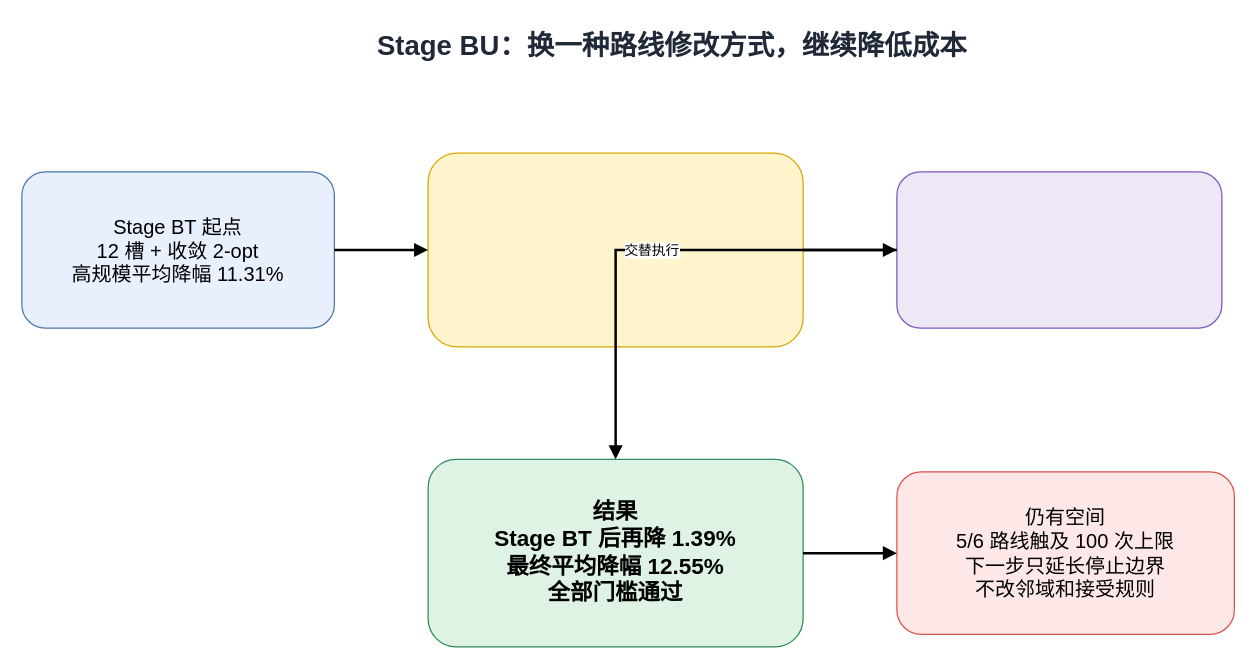
The diagram is 1256 pixels wide and 669 high, and some of its shapes have lost their labels. The shapes that lost their labels are listed below. From the top down, each one's centre as x and y in pixels, then its label:
[615,249]: 单节点移位 把一个节点移到 40 个近邻前后 只接受严格降成本变化
[1059,249]: 重新做 2-opt 每次移位后最多 500 步 移位最多接受 100 次
